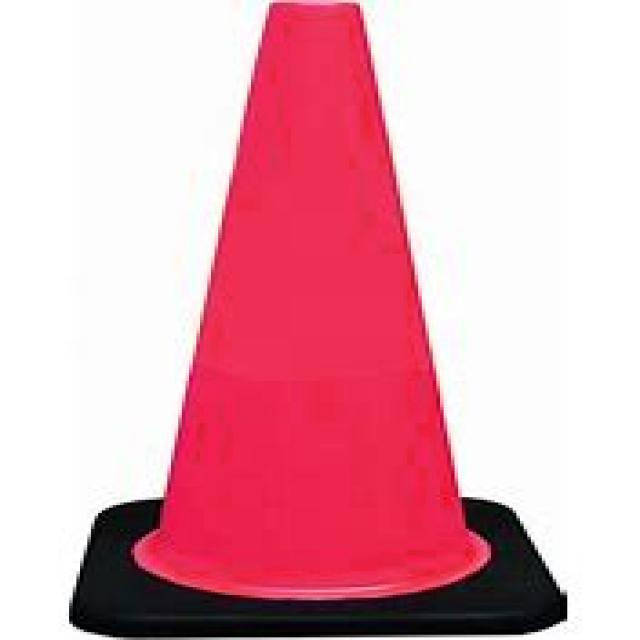traffic cone: (60, 1, 576, 640)
